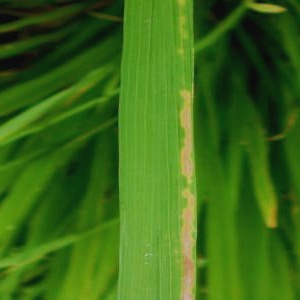Leaf_Blast: (114, 1, 200, 300)
